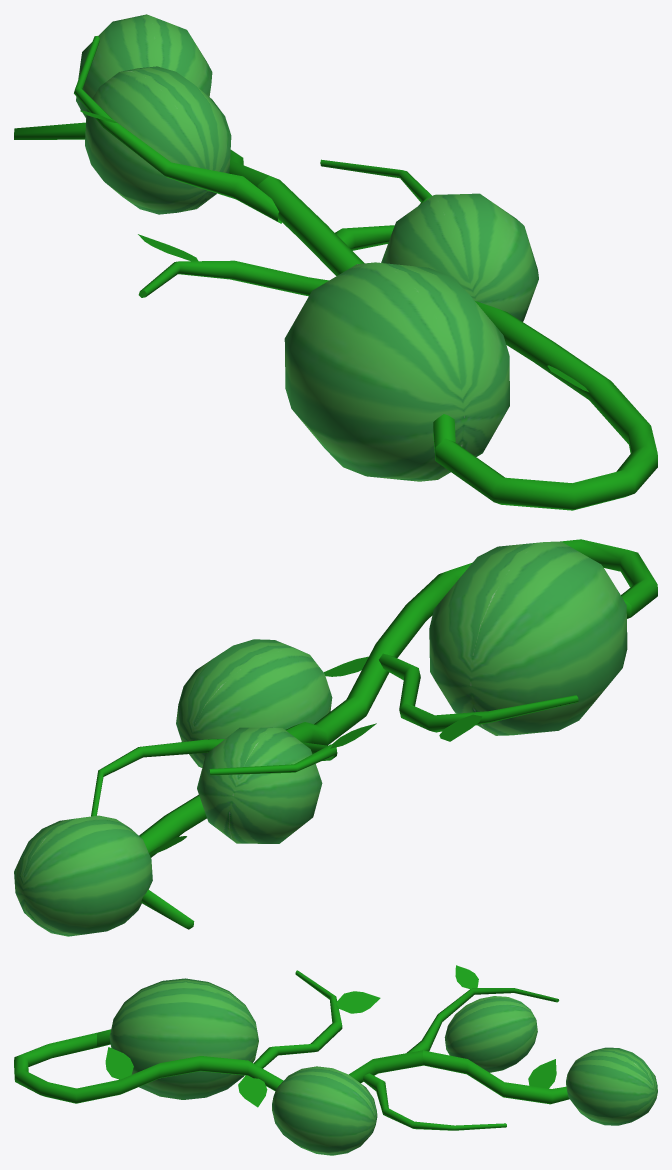
File: xigua.fbx
3 views of the same model, one above another, from view 1: azimuth 30°, elevation 25°; view 2: azimuth 150°, elevation 25°; view 3: azimuth 270°, elevation 25° (orthographic). The views are drawn at different scales.
Parts seen in each view (by area): view 1: xigua; view 2: xigua; view 3: xigua.
Part boxes in pixels (box(x1,y1,x2,y2)): xigua: box(14, 14, 657, 510); xigua: box(14, 539, 657, 936); xigua: box(14, 965, 657, 1155).
Size of the model in its own units: 213 by 100 by 507.
